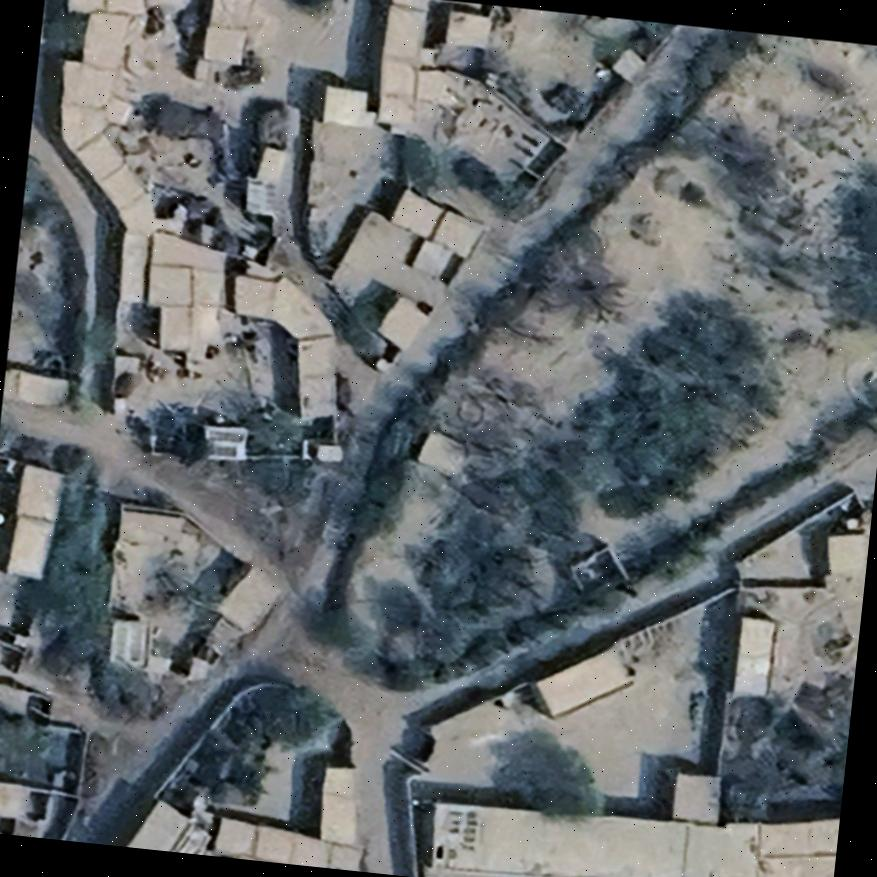Solarpanel: (441, 805, 482, 858), (203, 426, 250, 460)
